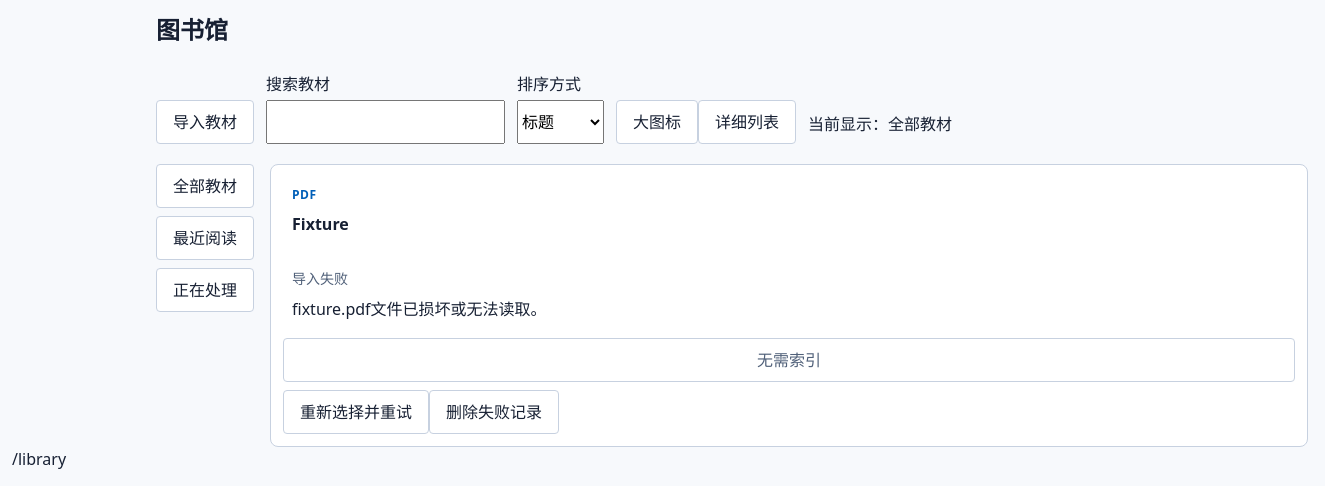
Scenario: library import flow › deletes a failed import record
Click the button "删除失败记录" at [494, 412], box x1=429 y1=390 x2=559 y2=434
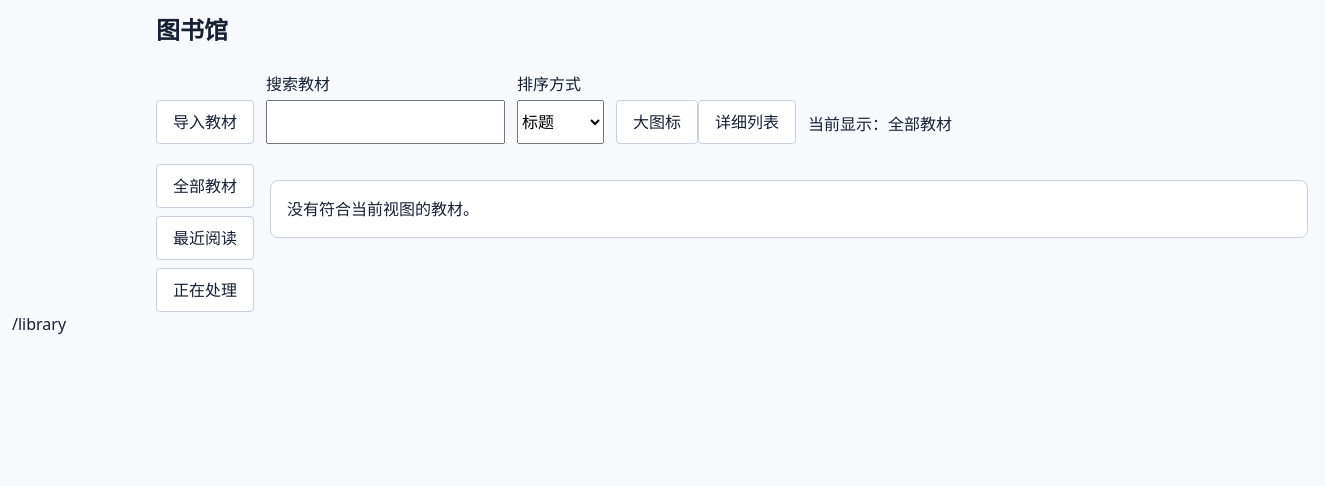
Now the button "fixture.pdf" is gone
